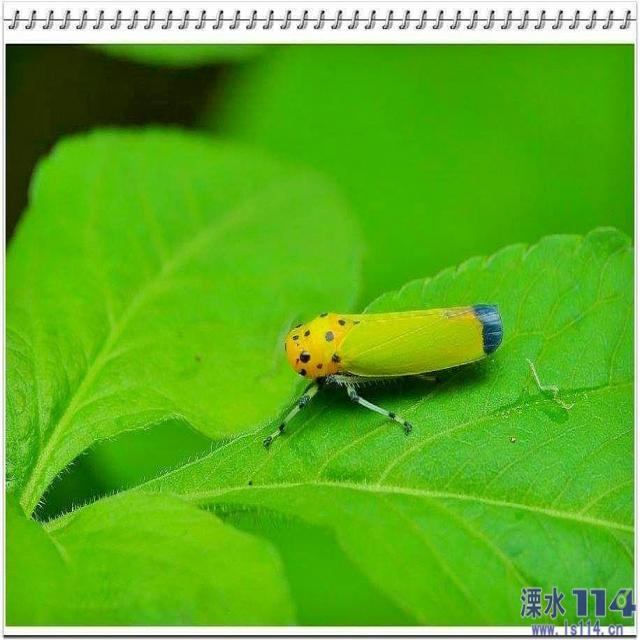Yechan: (259, 302, 507, 449)
